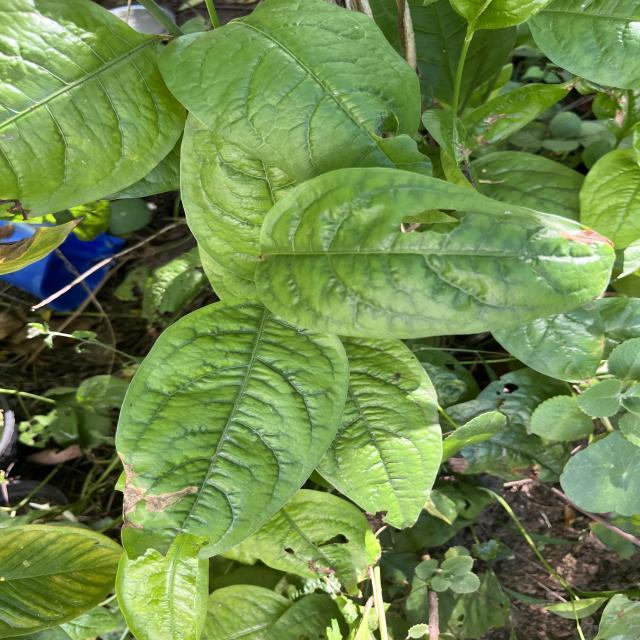Plumbago indica: (252, 160, 620, 344), (110, 292, 350, 564), (154, 0, 448, 174), (314, 336, 452, 534)
